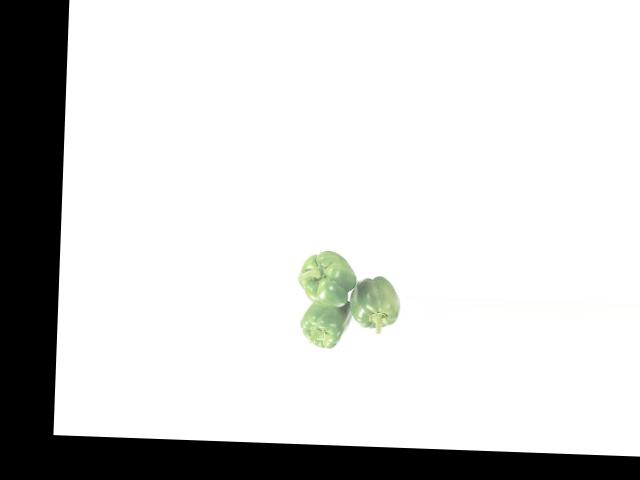bell_pepper: (292, 244, 357, 309)
